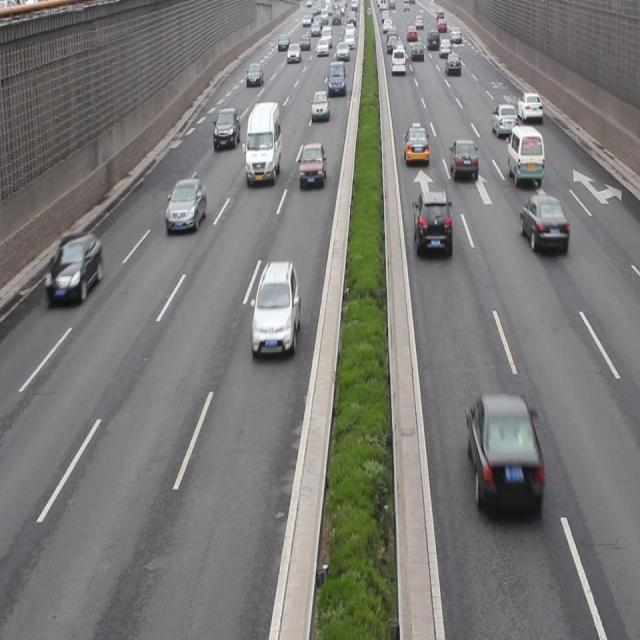car: (464, 394, 544, 516), (250, 263, 299, 359), (45, 234, 102, 304), (519, 194, 566, 255), (412, 188, 451, 256), (164, 177, 207, 237), (449, 138, 477, 183), (298, 144, 324, 188), (212, 106, 239, 148), (403, 123, 428, 164), (491, 103, 516, 138), (516, 91, 541, 122)
truck: (245, 104, 281, 184), (507, 127, 541, 188)
